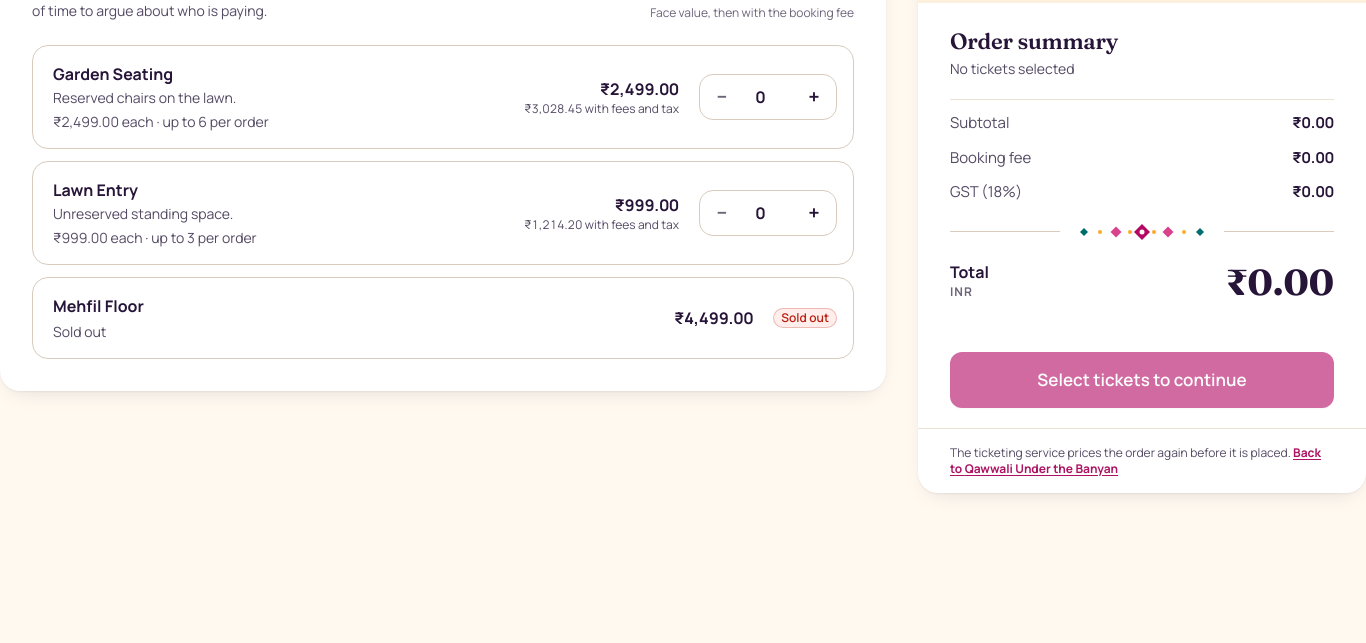
Test: CheckoutBasket › says plainly that nothing was reserved when the service is unreachable
What coordinates should you click on to do the following:
click the button named "Add one Garden Seating"
I would click on:
 (814, 97)
Its box is [792,75,836,119].
(page scrolled)
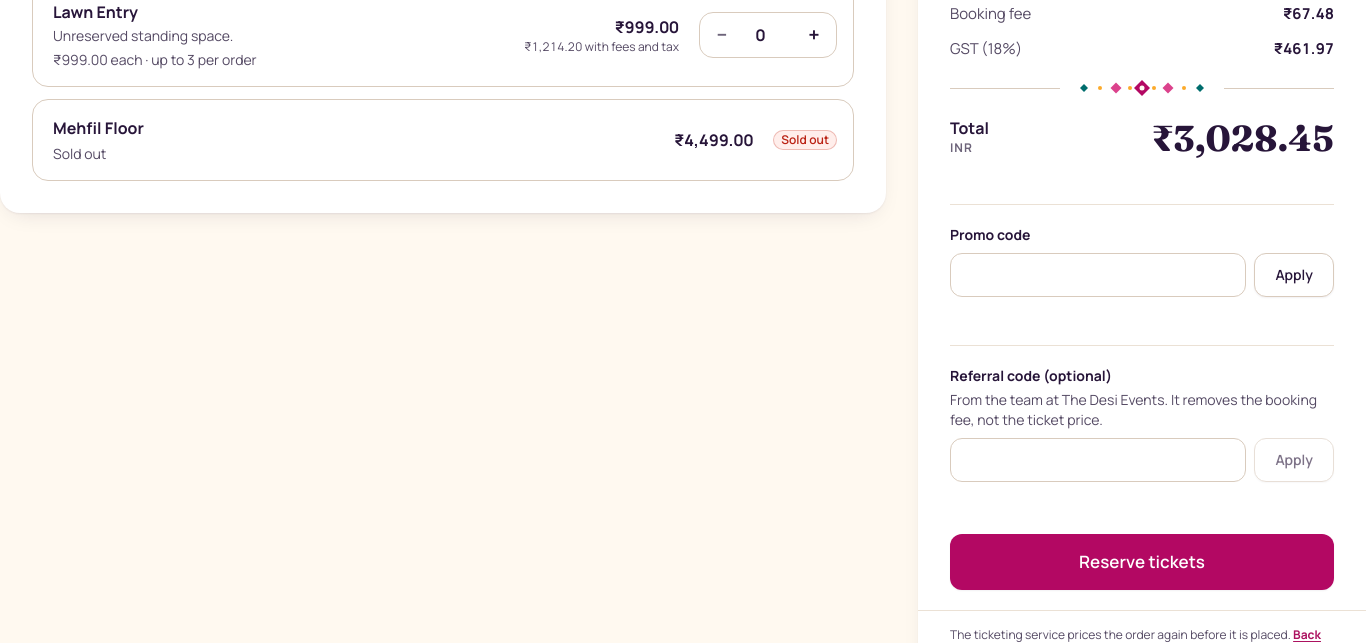
What coordinates should you click on to do the following:
click the button "Reserve tickets"
I would click on:
 (1142, 562)
Its box is [950,534,1334,590].
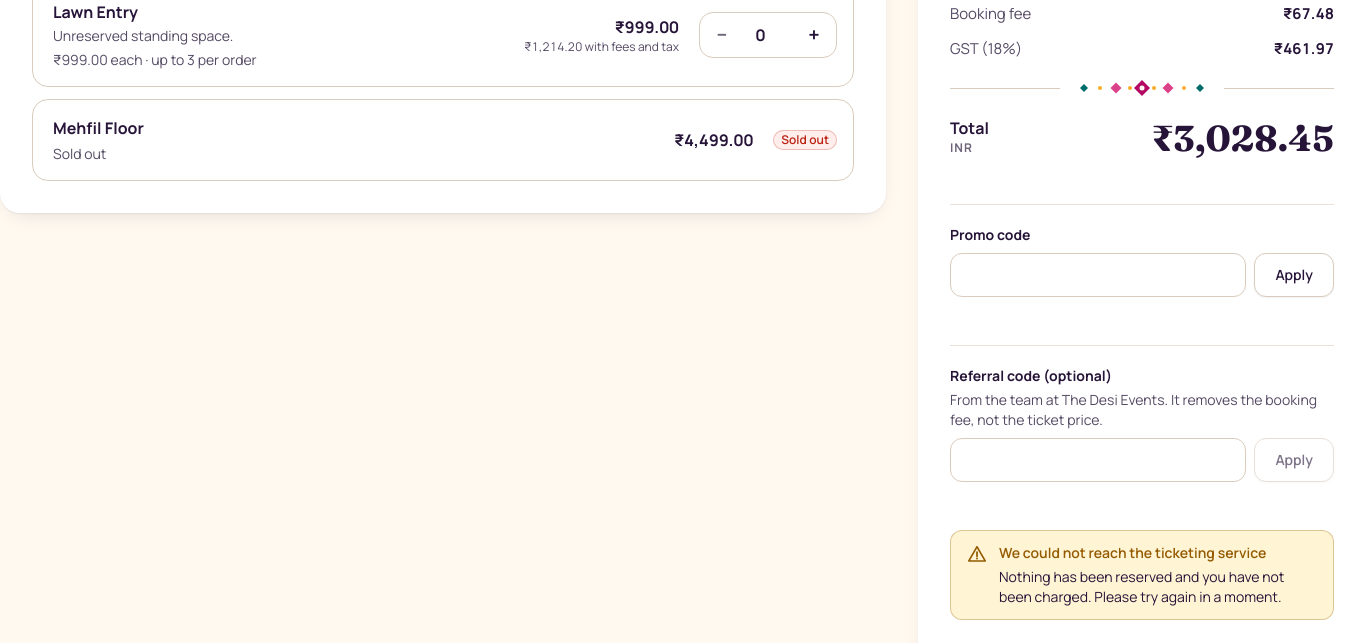
Expected: the text "We could not reach the ticketing service" is shown, [999,543,1266,562]
Expected: the text "you have not been charged" is shown, [999,567,1284,606]
